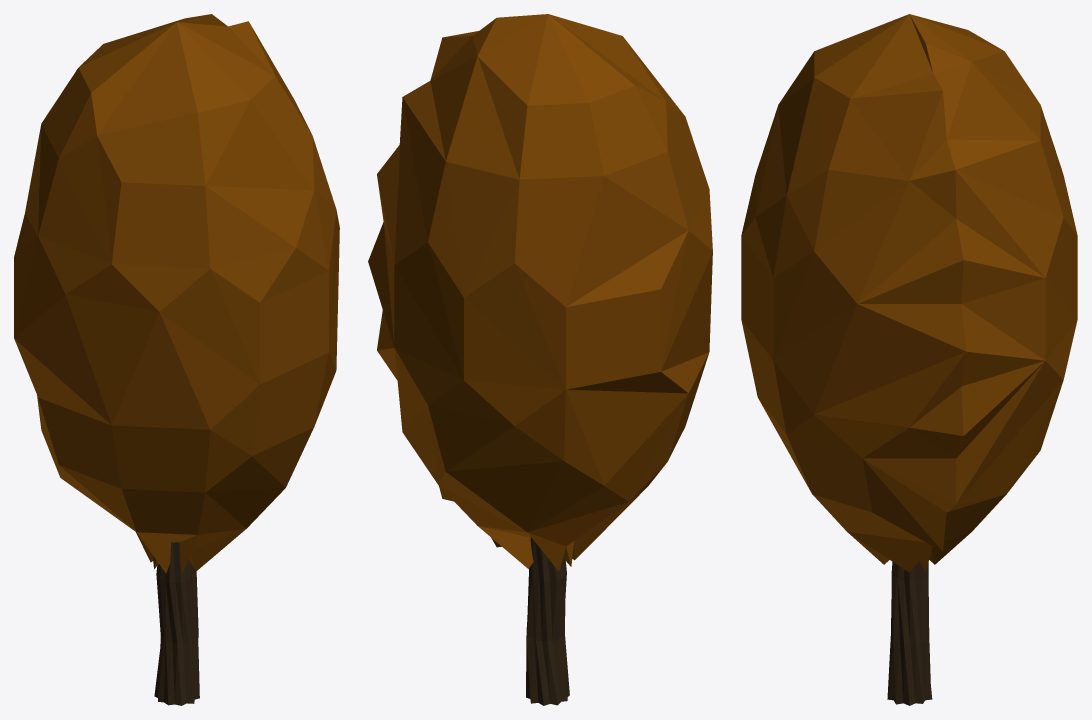
File: TallSkinnyTree_Orange.fbx
The picture shows the model from 3 angles, left to right: view 1: azimuth 30°, elevation 25°; view 2: azimuth 150°, elevation 25°; view 3: azimuth 270°, elevation 25°; orthographic projection.
Parts seen in each view (by area): view 1: Trees:pSphere2, Trees:pCylinder2; view 2: Trees:pSphere2, Trees:pCylinder2; view 3: Trees:pSphere2, Trees:pCylinder2.
Boxes of the visible parts, bbox=[...] form: Trees:pSphere2: bbox=[14, 14, 339, 574]; Trees:pCylinder2: bbox=[154, 542, 199, 705]; Trees:pSphere2: bbox=[368, 14, 712, 571]; Trees:pCylinder2: bbox=[526, 537, 569, 705]; Trees:pSphere2: bbox=[741, 14, 1077, 572]; Trees:pCylinder2: bbox=[887, 561, 932, 705].
Size of the model in its own units: 0.1721 by 0.3842 by 0.1717.
